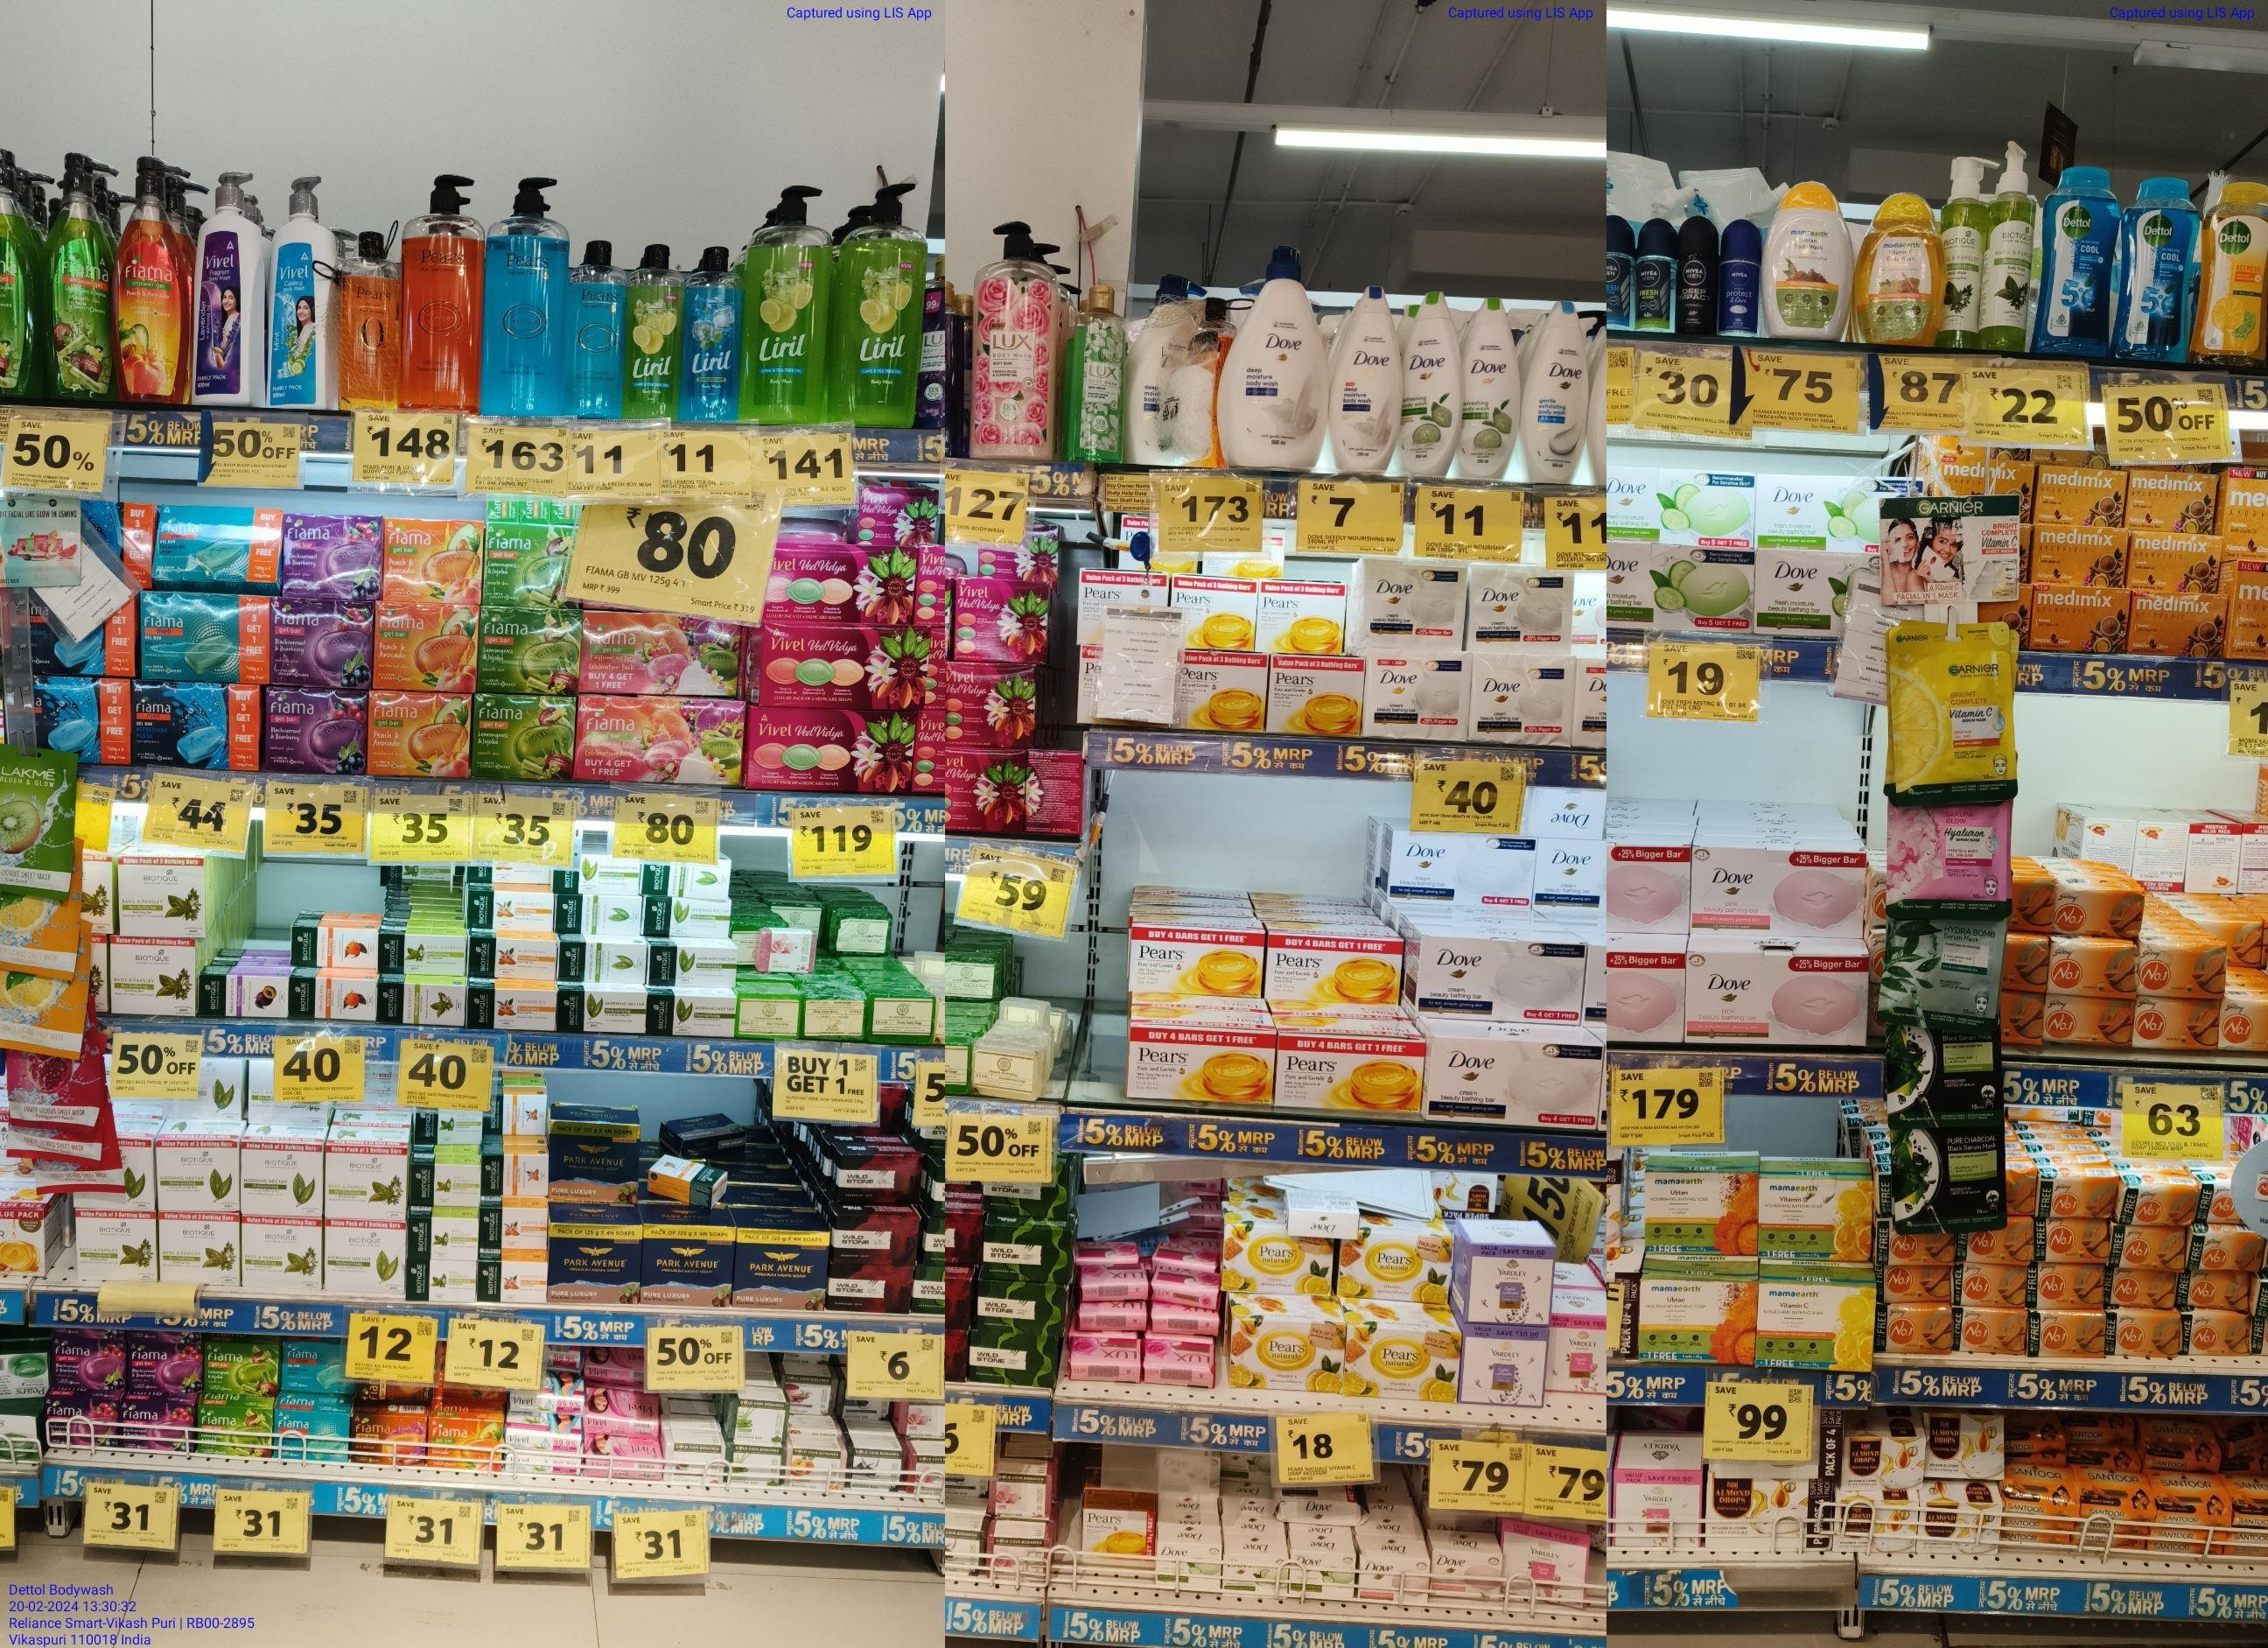Dettol_Bodywash_Cool: (2037, 164, 2117, 359), (2120, 174, 2198, 361)
Dettol_Bodywash_Refresh: (2201, 180, 2268, 364)
Dove_Deep_Moisture_Body_Wash_250ML: (1329, 283, 1400, 474)
Dove_Gentle_Exfoliating_Body_Wash_250ML: (1528, 294, 1588, 482)
Dove_Refreshing_Body_Wash_250ML: (1403, 287, 1465, 477), (1467, 287, 1521, 479)
Liril_Cooling_Mint_Body_Wash_250ML: (690, 245, 740, 419)
Liril_Lime_and_Tea_Tree_Oil_Body_Wash_250ML: (630, 245, 685, 421)
Lux_Body_Wash_Skin_Detox_Freesia_Scent_and_Alove_Vera_245ML: (1069, 282, 1123, 461)
Pears_Pure_Glycerin_and_Mint_Extracts_Body_Wash_250ML: (569, 232, 627, 419)
